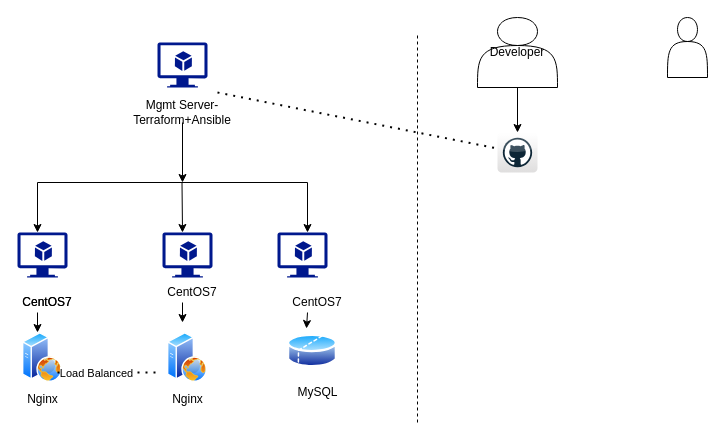
This 725x441 diagram has some shape labels left out. Here are the shapes that lost their labels. From the top down, the box of each, then its label:
(666, 16, 708, 78): User
(496, 132, 538, 172): GitHub Repo For Playbooks
